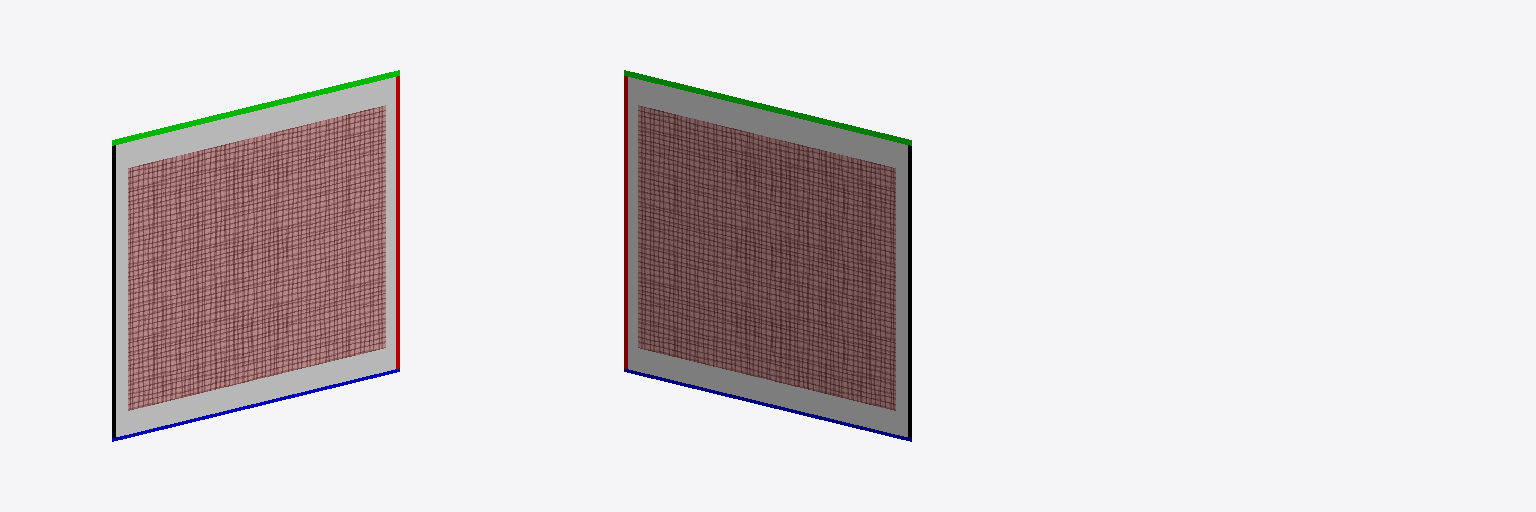
3 views of the same model, side by side, from view 1: azimuth 30°, elevation 25°; view 2: azimuth 150°, elevation 25°; view 3: azimuth 270°, elevation 25° (orthographic).
Visible parts, largest first — view 1: Plane001; view 2: Plane001; view 3: none.
Boxes of the visible parts, box(x1,y1,x2,y2) form: Plane001: box(112, 70, 399, 441); Plane001: box(624, 70, 911, 441).
Bounding box in the file's own units: 5 × 5 × 0.
Materials: 1 (1 with a texture image).